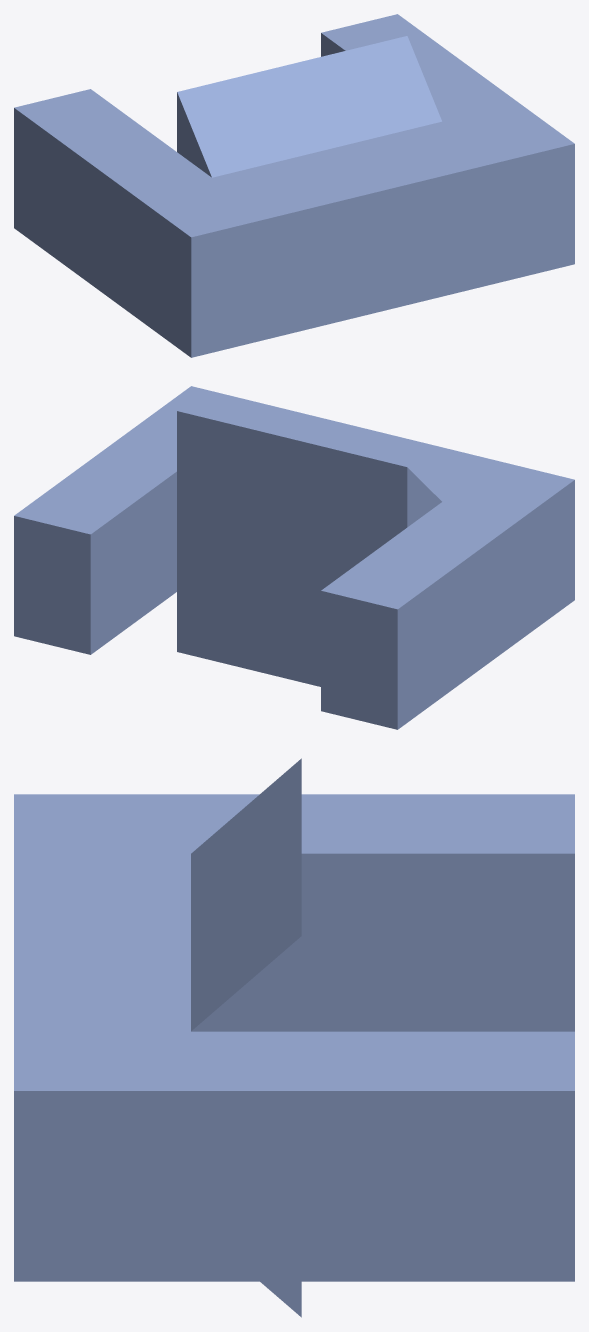
File: gable_roof_demo.glb
The picture shows the model from 3 angles, top to bottom: view 1: azimuth 30°, elevation 25°; view 2: azimuth 150°, elevation 25°; view 3: azimuth 270°, elevation 25°; orthographic projection. The views are drawn at different scales.
Visible parts, largest first — view 1: gabled_opening; view 2: gabled_opening; view 3: gabled_opening.
Part boxes in pixels (x1,y1,x2,y2): gabled_opening: (14, 14, 574, 357); gabled_opening: (14, 386, 574, 729); gabled_opening: (14, 758, 574, 1317).
Size of the model in its own units: 20 by 12 by 16.
